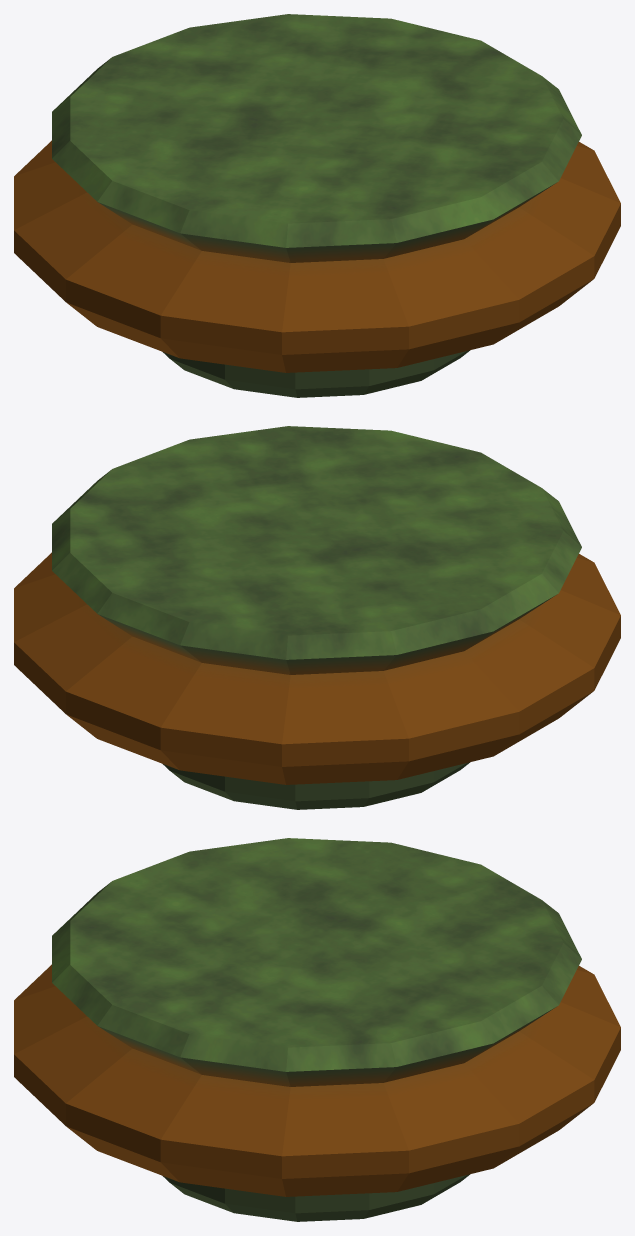
The model's file is Plataforma_Terrenos_Lvl1_T.fbx.
3 renders of one model, top to bottom at view 1: azimuth 30°, elevation 25°; view 2: azimuth 150°, elevation 25°; view 3: azimuth 270°, elevation 25°, orthographic.
Parts seen in each view (by area): view 1: Cube; view 2: Cube; view 3: Cube.
Boxes of the visible parts, x1,y1,x2,y2 form: Cube: [14, 14, 620, 397]; Cube: [14, 426, 620, 809]; Cube: [14, 838, 620, 1221].
Size of the model in its own units: 228 by 104 by 227.
